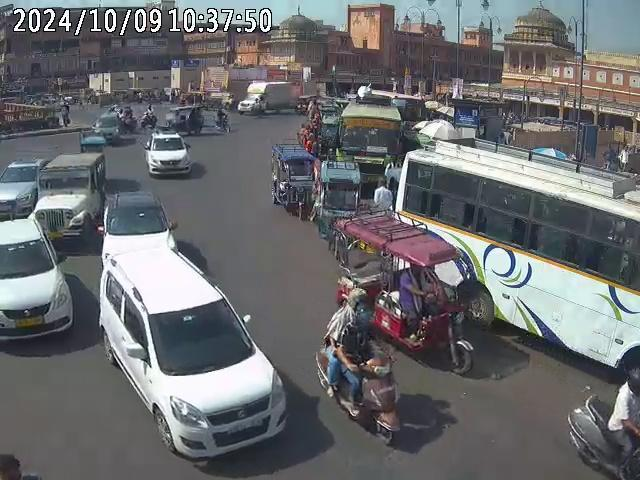auto: (342, 213, 472, 375), (268, 141, 318, 220), (320, 152, 361, 242)
bus: (393, 144, 639, 375), (334, 100, 404, 187)
car: (96, 249, 288, 468), (0, 218, 72, 344), (34, 152, 108, 253), (102, 188, 176, 252), (0, 159, 42, 220), (143, 131, 192, 178), (96, 104, 124, 145)
helmet: (353, 305, 378, 335), (344, 286, 370, 308), (625, 368, 640, 390)
person: (371, 179, 394, 215), (602, 143, 621, 174)
scooty-rider: (319, 284, 400, 440), (564, 367, 640, 479)
